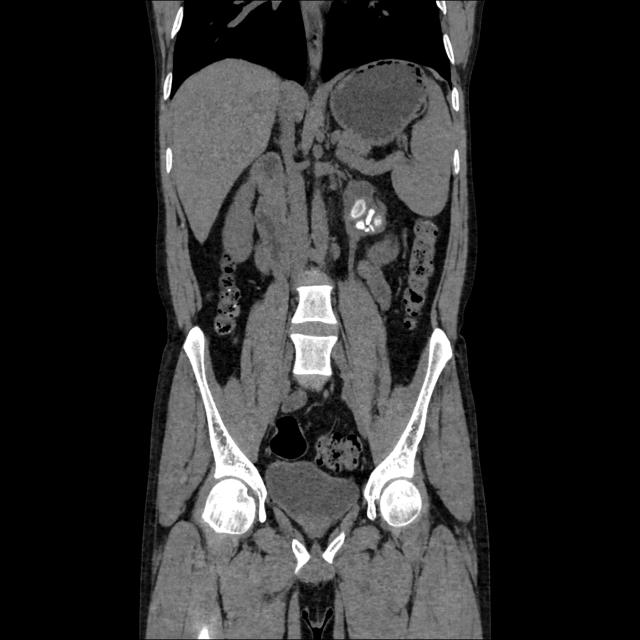kidneystone: (350, 199, 366, 219), (365, 208, 375, 225), (355, 221, 366, 230)
